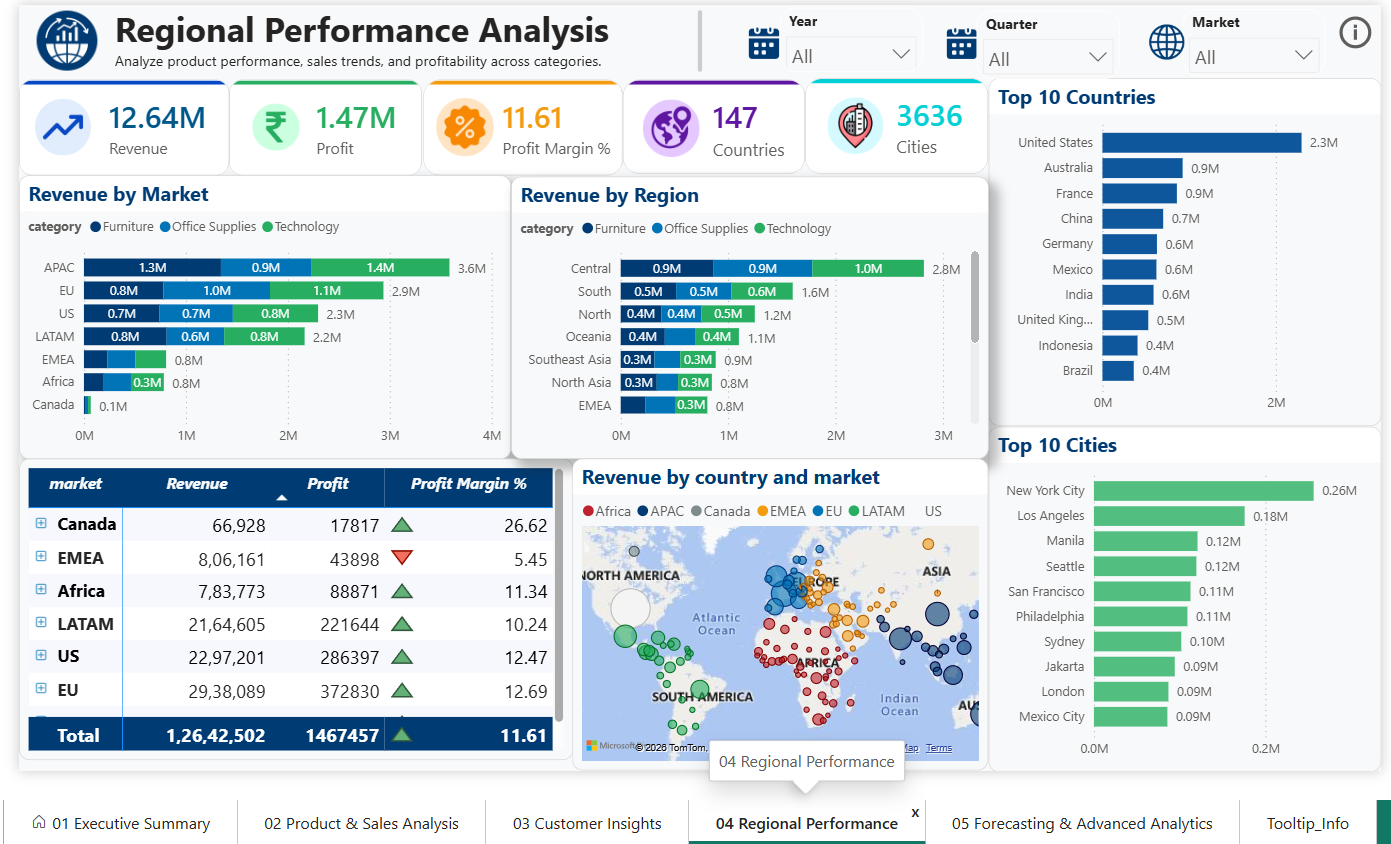

The page's visual inventory and layout, read from the dashboard file:
{"tool":"powerbi","page":{"name":"04 Regional Performance","canvas":[1280,720],"ordinal":3},"visuals":[{"type":"cardVisual","fields":{"Data":["_KeyMeasures.Profit Margin %"]},"box":[380,70,187.8,90],"z":0},{"type":"cardVisual","fields":{"Data":["_KeyMeasures.Total Countries"]},"box":[567.8,70,171.1,88.9],"z":1000},{"type":"actionButton","box":[1233,0,47.3,51.3],"z":2000},{"type":"cardVisual","fields":{"Data":["_KeyMeasures.Blank"]},"box":[1232.9,0,47.9,51.4],"z":3000},{"type":"barChart","title":"Revenue by Market","fields":{"Category":["dim_region.market"],"Series":["dim_product.category"],"Y":["_KeyMeasures.Revenue"]},"box":[0,160,462.2,266.7],"z":4000},{"type":"clusteredBarChart","title":"Top 10 Countries","fields":{"Category":["dim_region.country"],"Y":["_KeyMeasures.Revenue"]},"box":[911,68.4,369.4,327.3],"z":5000},{"type":"pivotTable","title":"Regional Performance Matrix","fields":{"Rows":["dim_region.market","dim_region.region","dim_region.country"],"Values":["_KeyMeasures.Revenue","_KeyMeasures.Profit","_KeyMeasures.Profit Margin %"]},"box":[0,426.7,521.1,283.3],"z":6000},{"type":"clusteredBarChart","title":"Top 10 Cities","fields":{"Y":["_KeyMeasures.Revenue"],"Category":["dim_region.city"]},"box":[911,395.7,369.4,324.7],"z":7000},{"type":"cardVisual","fields":{"Data":["_KeyMeasures.Total Cities"]},"box":[738.9,68.9,172.2,90],"z":8000},{"type":"barChart","title":"Revenue by Region","fields":{"Category":["dim_region.region"],"Series":["dim_product.category"],"Y":["_KeyMeasures.Revenue"]},"box":[462.2,161.1,448.9,265.6],"z":9000},{"type":"map","fields":{"Category":["dim_region.country"],"Series":["dim_region.market"],"Size":["_KeyMeasures.Revenue"]},"box":[520,426.7,391.1,293.3],"z":10000},{"type":"slicer","fields":{"Values":["dim_date.year"]},"box":[715.5,3,134.5,60.5],"z":11000},{"type":"slicer","fields":{"Values":["dim_date.quarter"]},"box":[900,4.7,134.4,64.4],"z":12000},{"type":"slicer","fields":{"Values":["dim_region.market"]},"box":[1093.3,4,134.1,63.1],"z":13000},{"type":"image","box":[677.8,7,45,52.2],"z":14000},{"type":"image","box":[863.3,7.8,44.4,53.9],"z":15000},{"type":"image","box":[1060.6,14,37.8,41.7],"z":16000},{"type":"shape","box":[610,4.4,60,57.8],"z":17000},{"type":"textbox","box":[85,0,537,67],"z":18000},{"type":"image","box":[0,0,90,67],"z":19000},{"type":"cardVisual","fields":{"Data":["_KeyMeasures.Profit"]},"box":[197.8,70,181.1,90],"z":20000},{"type":"cardVisual","fields":{"Data":["_KeyMeasures.Revenue"]},"box":[0,70,197.8,90],"z":21000}]}

Visuals, with their boxes on the page's 1280x720 design canvas (x1, y1, x2, y2). These are canvas units, not pixel positions in the 1391x844 screenshot, which may show the page scaled, cropped or inside an application window:
cardVisual - _KeyMeasures.Profit Margin %: rect(380, 70, 568, 160)
cardVisual - _KeyMeasures.Total Countries: rect(568, 70, 739, 159)
actionButton: rect(1233, 0, 1280, 51)
cardVisual - _KeyMeasures.Blank: rect(1233, 0, 1281, 51)
"Revenue by Market" barChart: rect(0, 160, 462, 427)
"Top 10 Countries" clusteredBarChart: rect(911, 68, 1280, 396)
"Regional Performance Matrix" pivotTable: rect(0, 427, 521, 710)
"Top 10 Cities" clusteredBarChart: rect(911, 396, 1280, 720)
cardVisual - _KeyMeasures.Total Cities: rect(739, 69, 911, 159)
"Revenue by Region" barChart: rect(462, 161, 911, 427)
map - dim_region.country x dim_region.market: rect(520, 427, 911, 720)
slicer - dim_date.year: rect(716, 3, 850, 64)
slicer - dim_date.quarter: rect(900, 5, 1034, 69)
slicer - dim_region.market: rect(1093, 4, 1227, 67)
image: rect(678, 7, 723, 59)
image: rect(863, 8, 908, 62)
image: rect(1061, 14, 1098, 56)
shape: rect(610, 4, 670, 62)
textbox: rect(85, 0, 622, 67)
image: rect(0, 0, 90, 67)
cardVisual - _KeyMeasures.Profit: rect(198, 70, 379, 160)
cardVisual - _KeyMeasures.Revenue: rect(0, 70, 198, 160)
